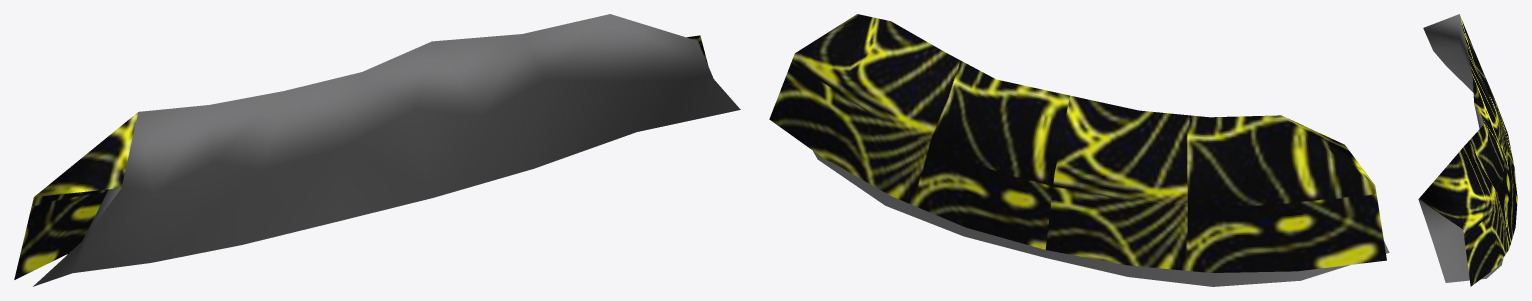
The model's file is Kerah.fbx.
The picture shows the model from 3 angles, left to right: view 1: azimuth 30°, elevation 25°; view 2: azimuth 150°, elevation 25°; view 3: azimuth 270°, elevation 25°; orthographic projection. The views are drawn at different scales.
Parts seen in each view (by area): view 1: Kerah; view 2: Kerah; view 3: Kerah.
Boxes of the visible parts, x1=… form: Kerah: x1=14, y1=14, x2=740, y2=286; Kerah: x1=769, y1=14, x2=1389, y2=286; Kerah: x1=1418, y1=14, x2=1517, y2=286.
Bounding box in the file's own units: 145 × 37.87 × 27.34.
Materials: 2 (1 with a texture image).
